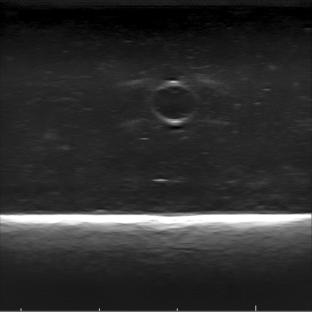vessel: (148, 79, 199, 125)
